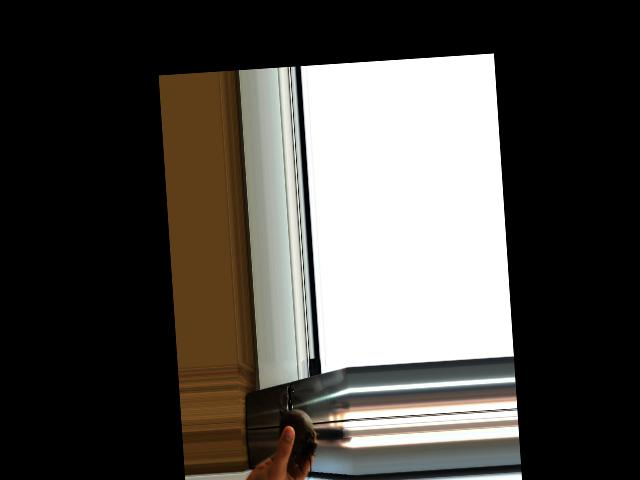beet: (277, 399, 319, 480)
